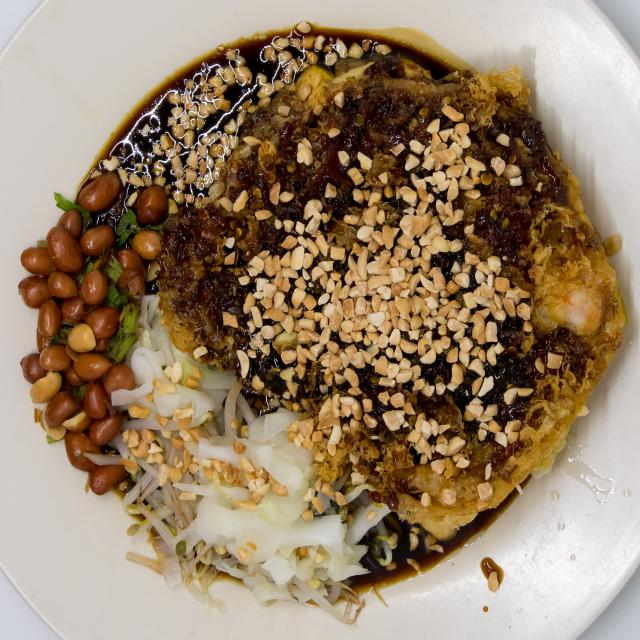Tahu-Telur: (23, 28, 625, 596)
